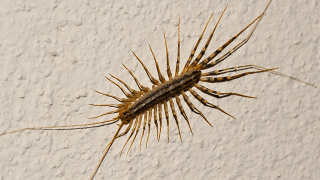centipede: (83, 6, 301, 157)
